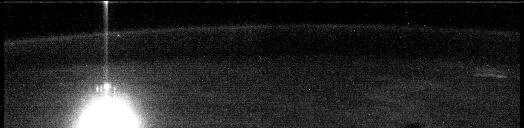positive: (92, 82, 120, 96)
